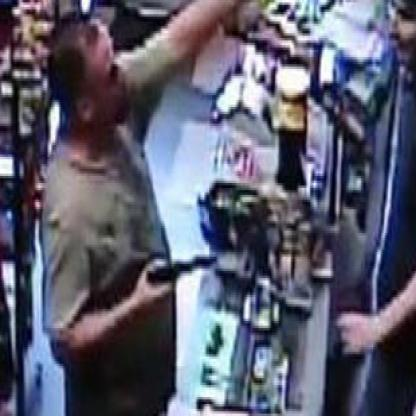gun: (145, 247, 223, 316), (321, 0, 372, 26)
